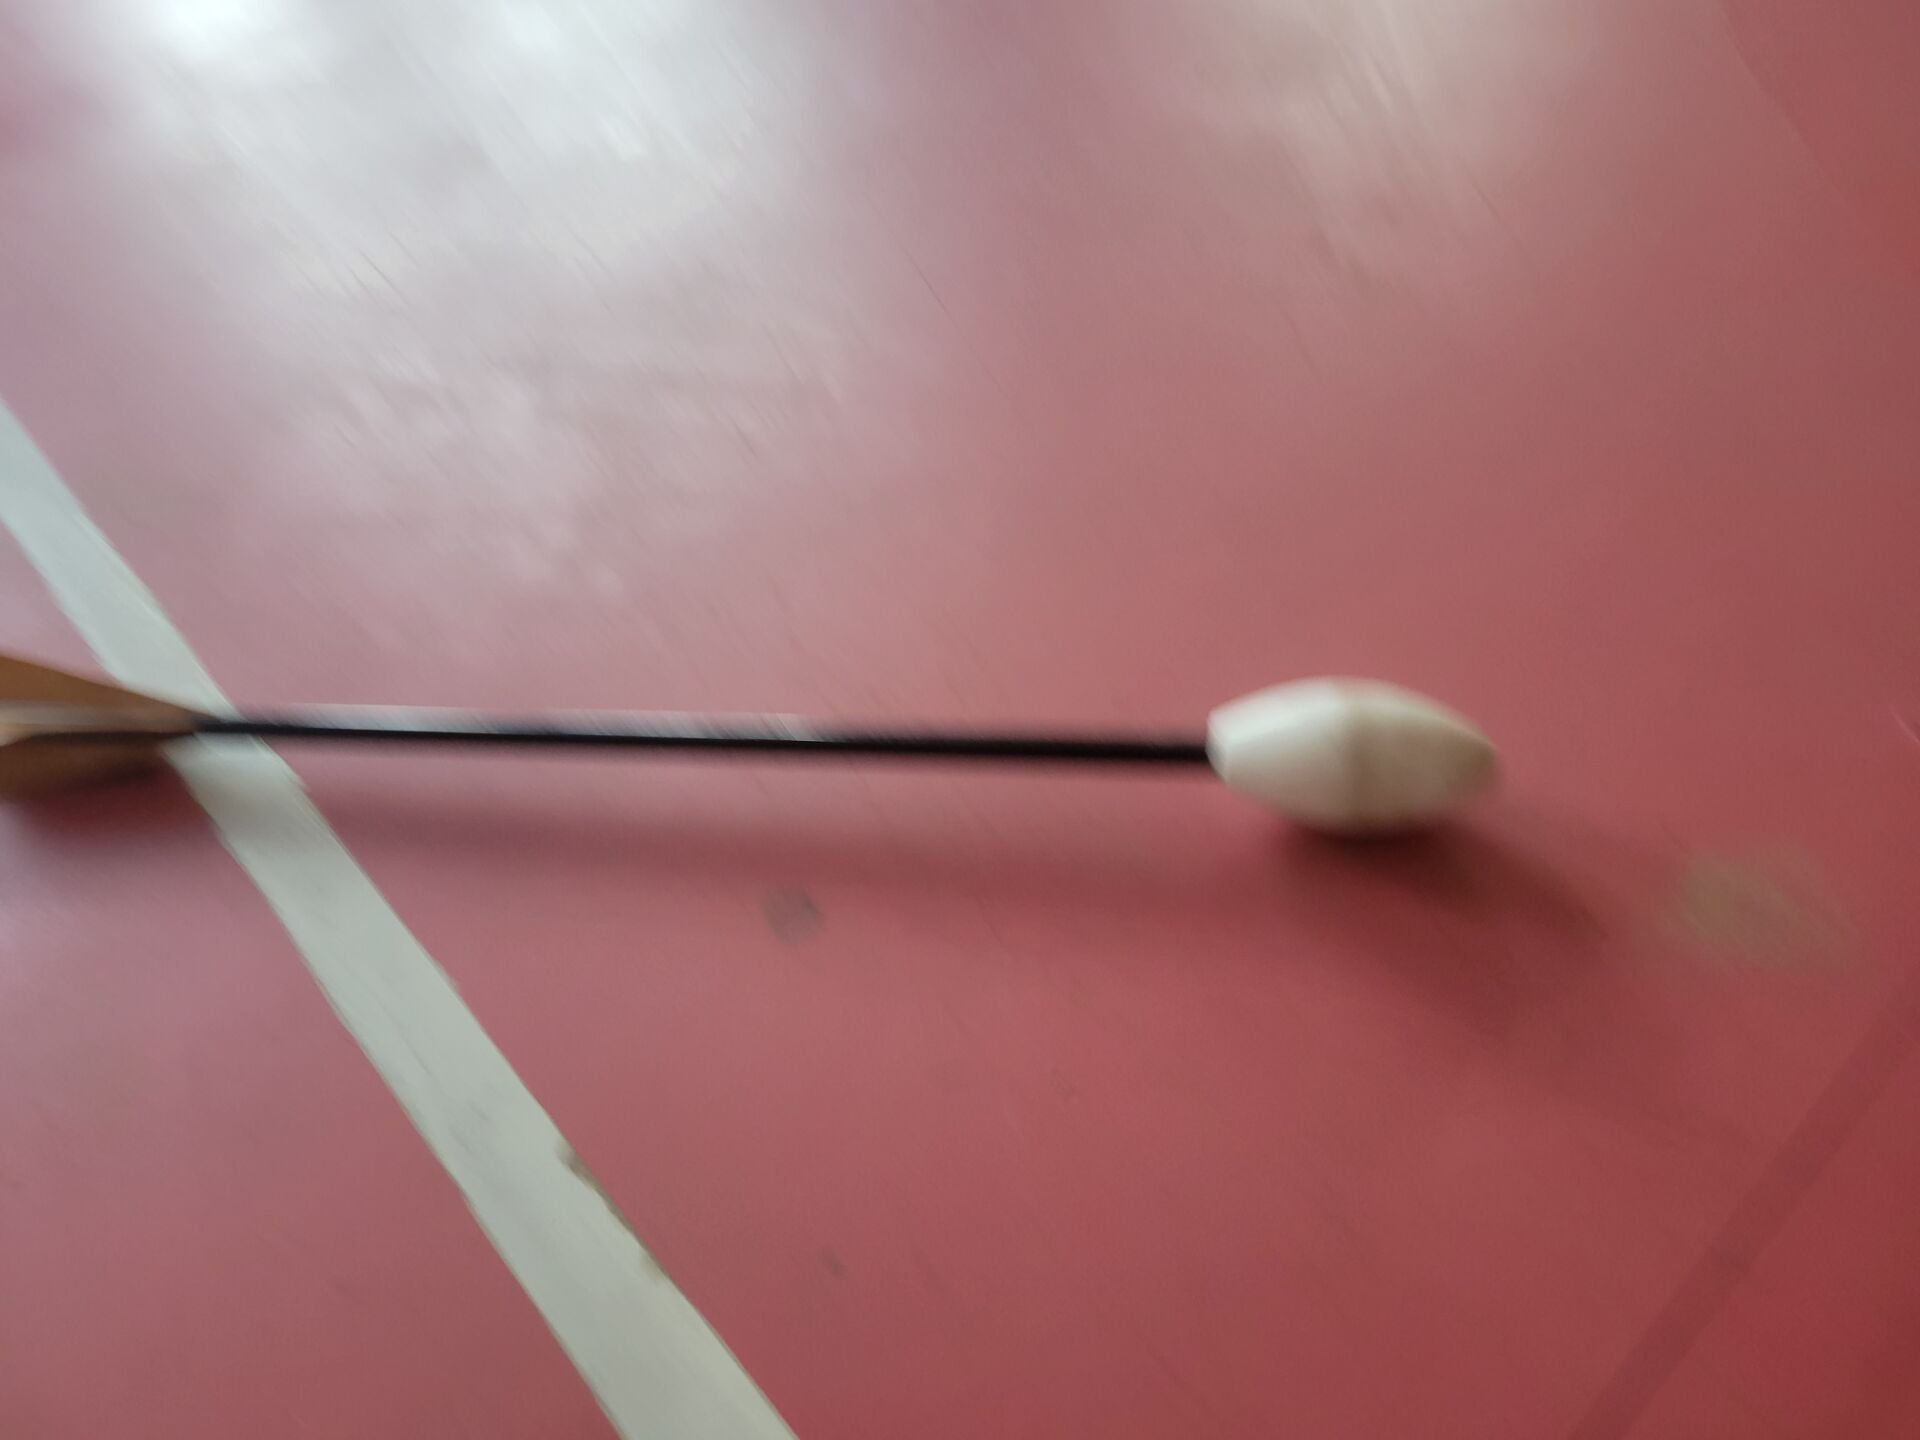arrow: (2, 647, 1513, 832)
arrowFront: (1200, 675, 1510, 833)
